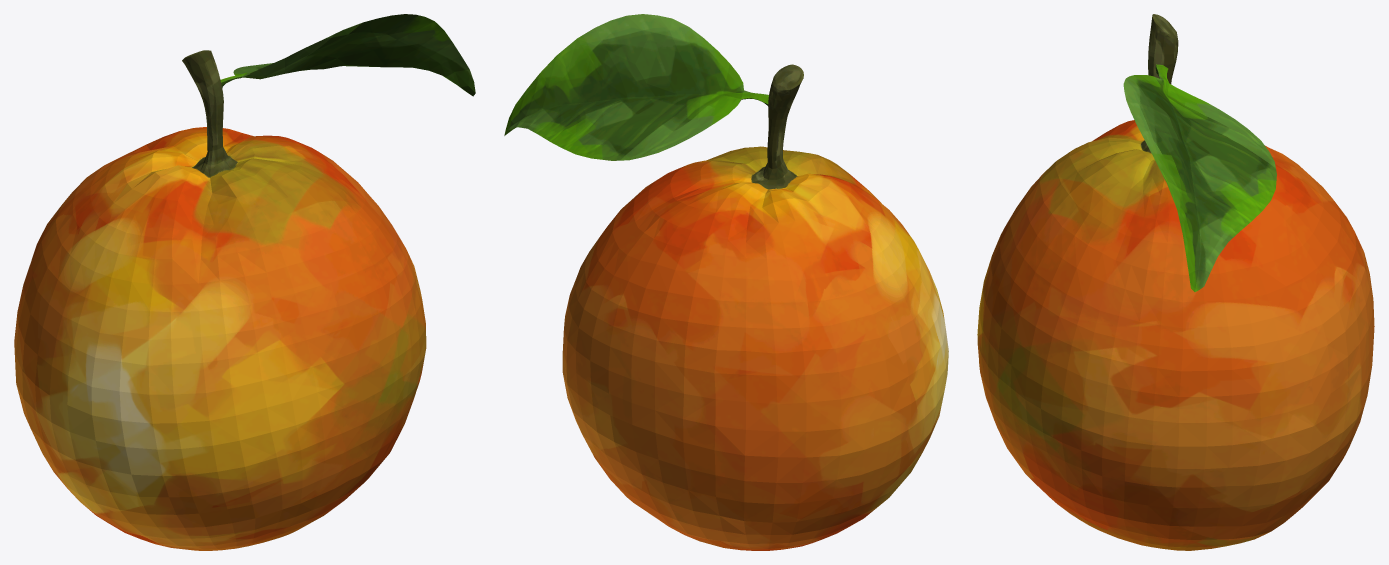
File: orange.glb
The picture shows the model from 3 angles, left to right: view 1: azimuth 30°, elevation 25°; view 2: azimuth 150°, elevation 25°; view 3: azimuth 270°, elevation 25°; orthographic projection. The views are drawn at different scales.
Parts seen in each view (by area): view 1: node_id111; view 2: node_id111; view 3: node_id111.
Part boxes in pixels (x1=…): node_id111: x1=14, y1=14, x2=475, y2=550; node_id111: x1=504, y1=14, x2=948, y2=550; node_id111: x1=977, y1=14, x2=1374, y2=550.
Size of the model in its own units: 0.4279 by 0.4674 by 0.3322.
1 material, 1 textured.
